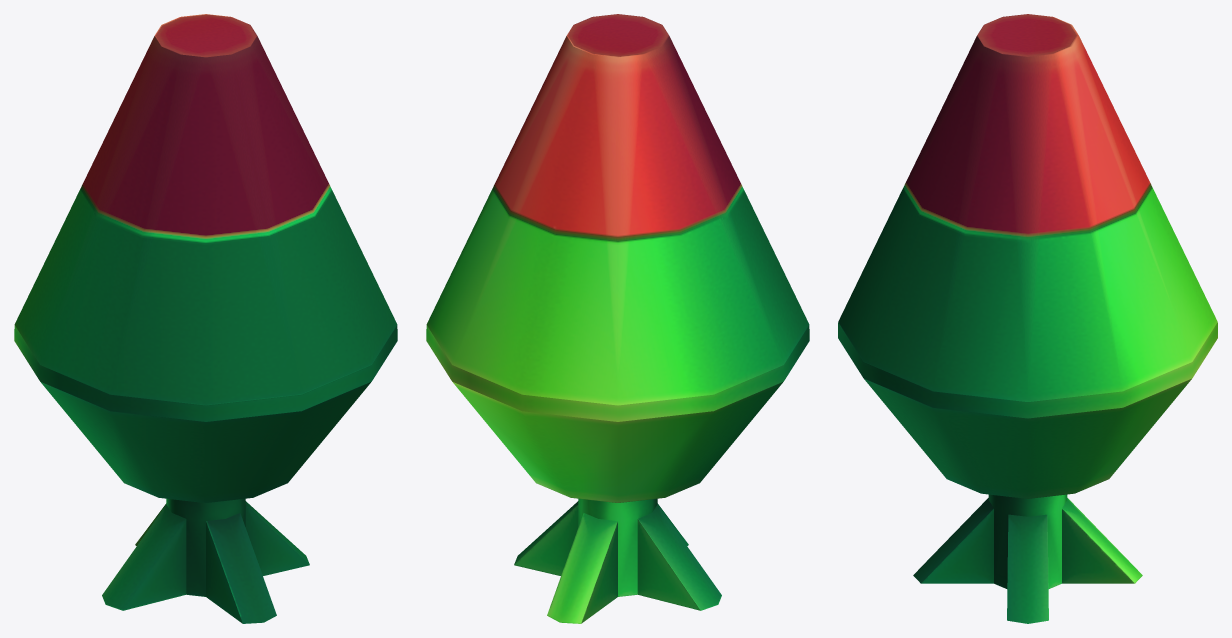
The model's file is upper_rocket_launcher_arena_3_rocket.fbx.
3 views of the same model, side by side, from view 1: azimuth 30°, elevation 25°; view 2: azimuth 150°, elevation 25°; view 3: azimuth 270°, elevation 25° (orthographic).
Parts seen in each view (by area): view 1: Cylinder.094; view 2: Cylinder.094; view 3: Cylinder.094.
Part boxes in pixels (x1=…): Cylinder.094: x1=14, y1=14, x2=397, y2=623; Cylinder.094: x1=426, y1=14, x2=809, y2=623; Cylinder.094: x1=838, y1=14, x2=1217, y2=623.
Size of the model in its own units: 54.64 by 85.69 by 54.64.
